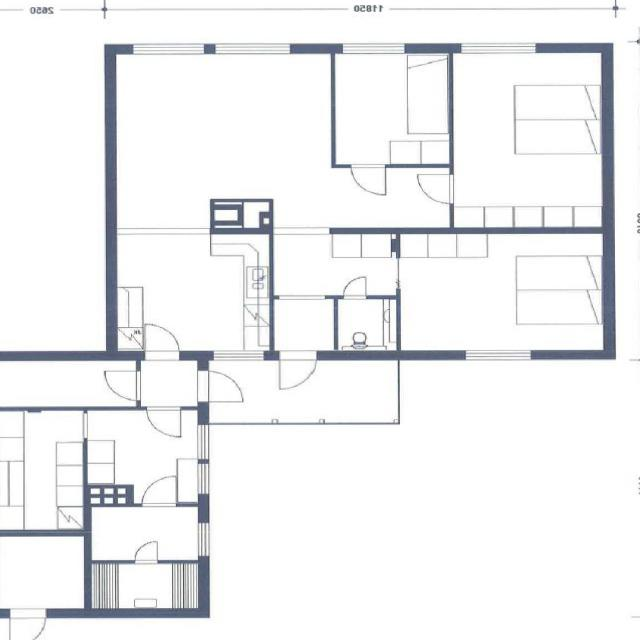door: (198, 370, 247, 402), (280, 350, 317, 392), (145, 320, 180, 360), (102, 370, 141, 400), (146, 406, 181, 439), (10, 608, 46, 640), (415, 174, 454, 203), (142, 474, 175, 507), (352, 164, 385, 197), (135, 541, 158, 564), (344, 276, 366, 299)
